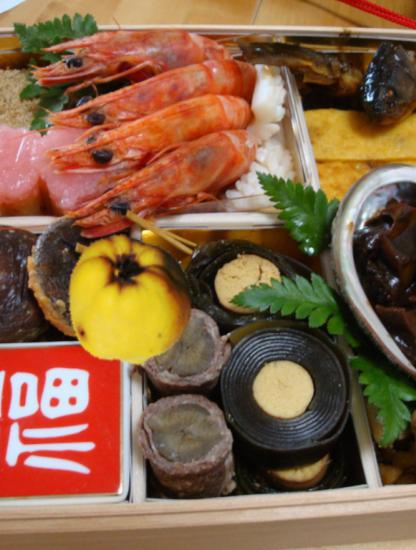Quince: (65, 234, 197, 366)
